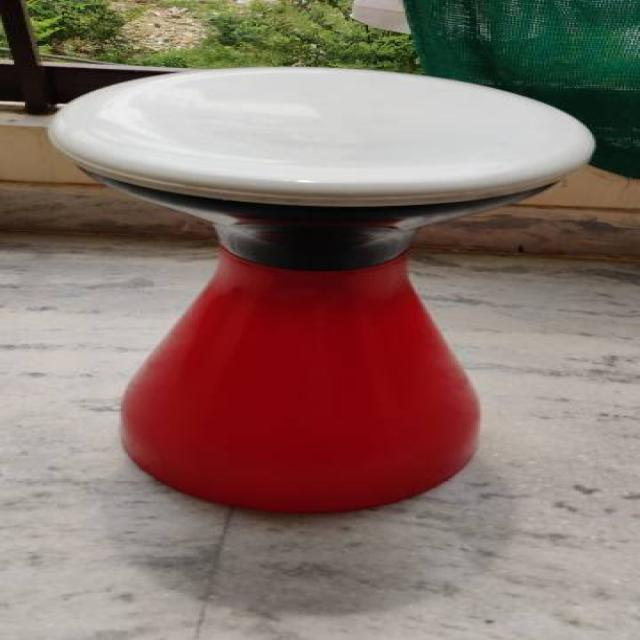table: (44, 64, 596, 514)
